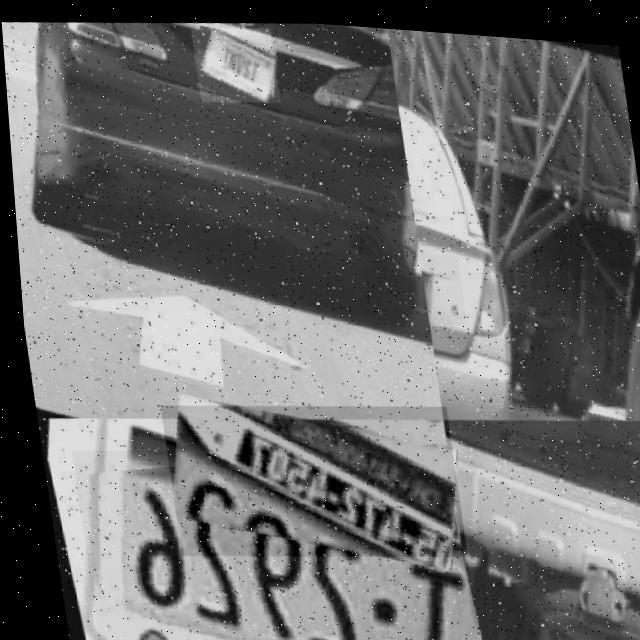LicensePlate: (62, 422, 473, 640), (153, 383, 461, 570), (196, 25, 274, 98), (568, 400, 640, 476), (415, 245, 462, 320)
